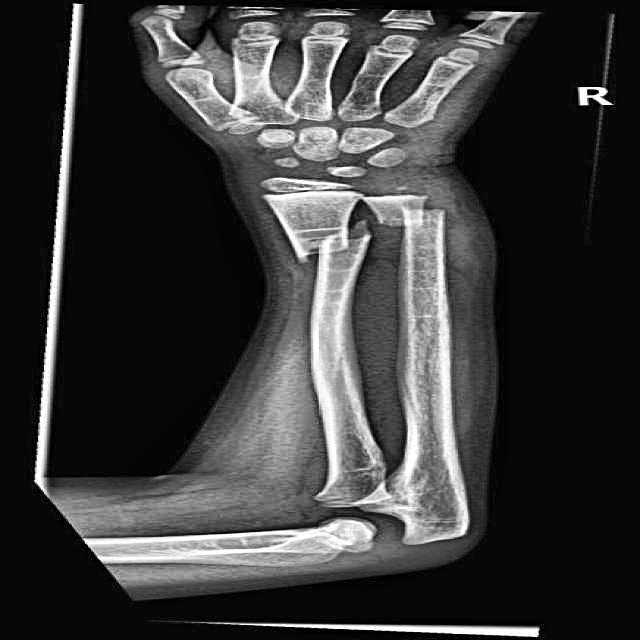Oblique: (276, 224, 383, 284)
Transverse: (377, 185, 476, 231)
